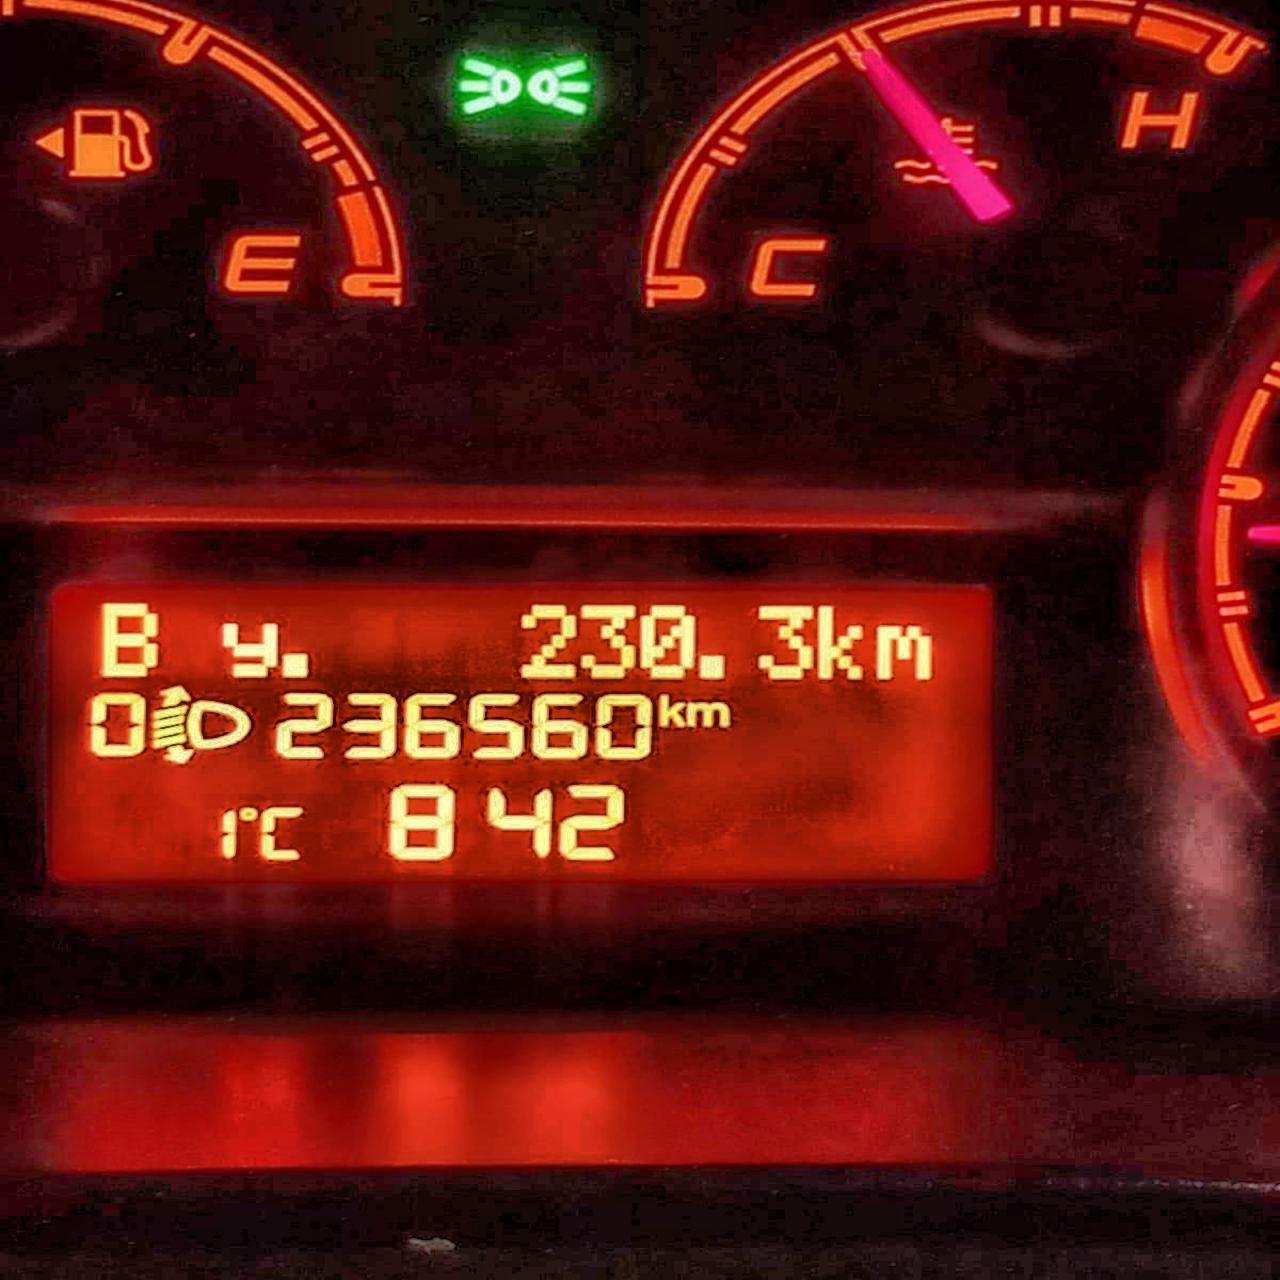-: (696, 651, 729, 681), (276, 652, 310, 680)
0: (637, 603, 696, 680), (84, 690, 150, 756), (591, 692, 655, 760)
1: (215, 808, 240, 862)
2: (555, 782, 626, 861), (270, 690, 335, 760), (519, 602, 578, 679)
3: (754, 602, 817, 681), (576, 601, 637, 681), (340, 691, 399, 762)
4: (481, 785, 556, 860)
5: (466, 690, 527, 760)
6: (402, 690, 463, 760), (529, 690, 588, 760)
8: (383, 780, 456, 862)
X: (96, 600, 160, 679), (816, 603, 866, 680), (218, 620, 280, 681), (874, 622, 936, 682), (255, 804, 307, 863), (681, 699, 730, 730), (655, 692, 687, 729)
odometer: (37, 574, 1006, 893)
